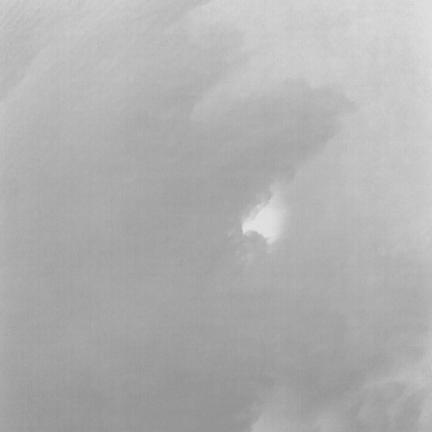flukeprints: (241, 186, 287, 244)
